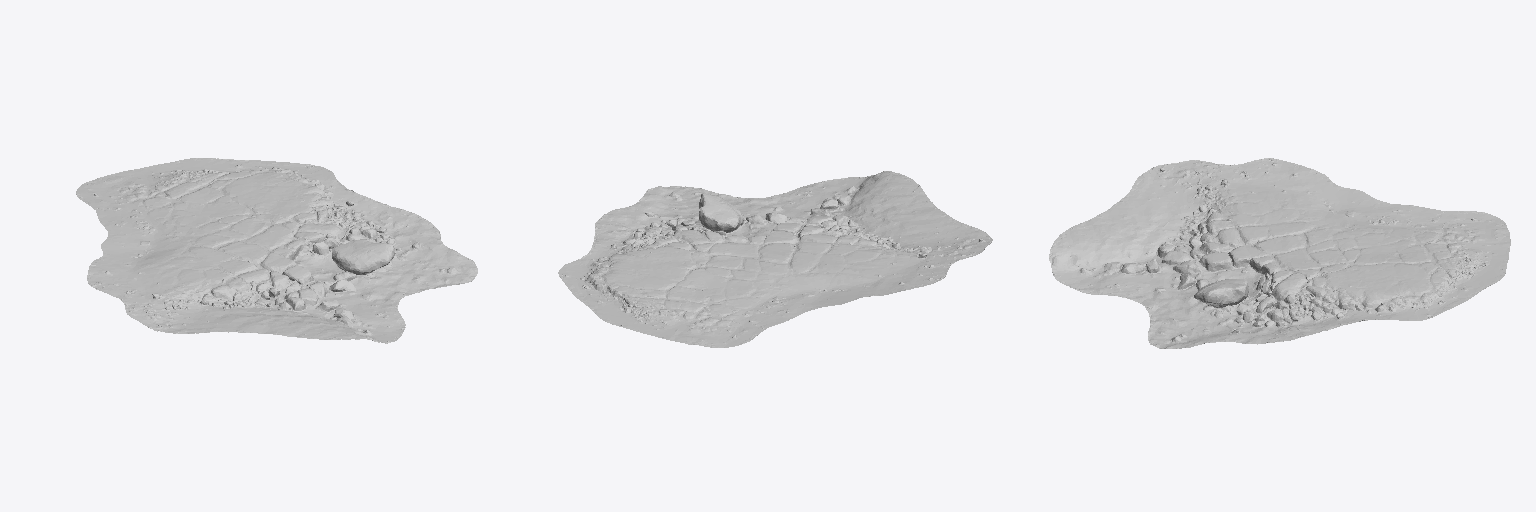
File: Concrete.obj
3 views of the same model, side by side, from view 1: azimuth 30°, elevation 25°; view 2: azimuth 150°, elevation 25°; view 3: azimuth 270°, elevation 25° (orthographic).
Parts seen in each view (by area): view 1: Group30945; view 2: Group30945; view 3: Group30945.
Part boxes in pixels (bbox=[...]): Group30945: bbox=[76, 158, 477, 343]; Group30945: bbox=[558, 171, 992, 347]; Group30945: bbox=[1049, 158, 1510, 348].
Bounding box in the file's own units: 3.04 × 0.2565 × 3.58.